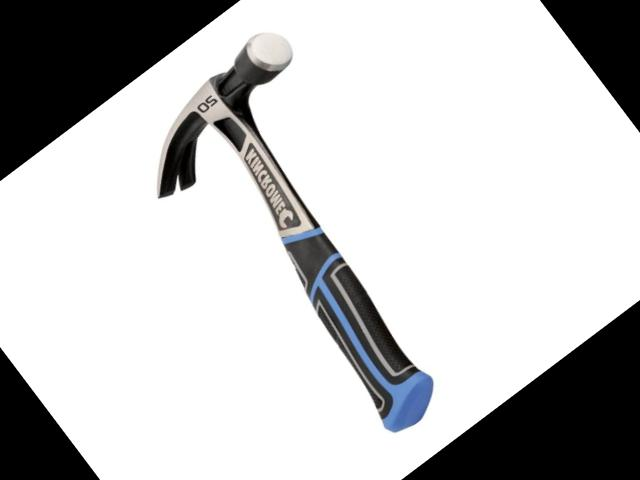hammer: (112, 21, 518, 468)
